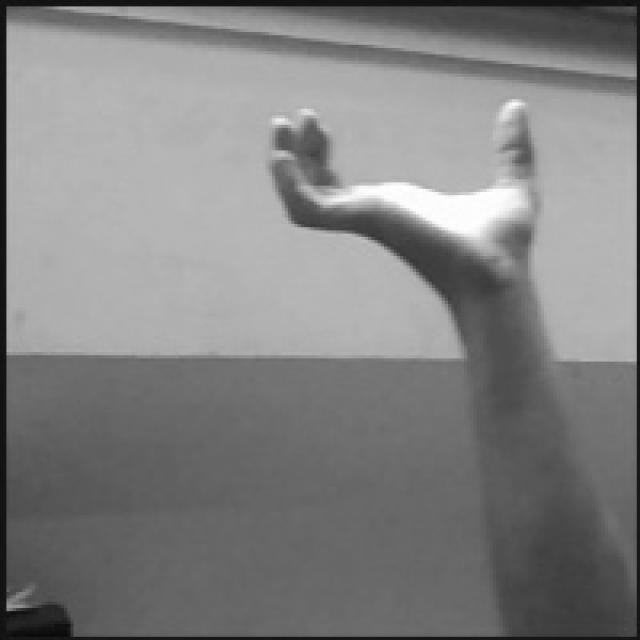space: (269, 99, 534, 285)
